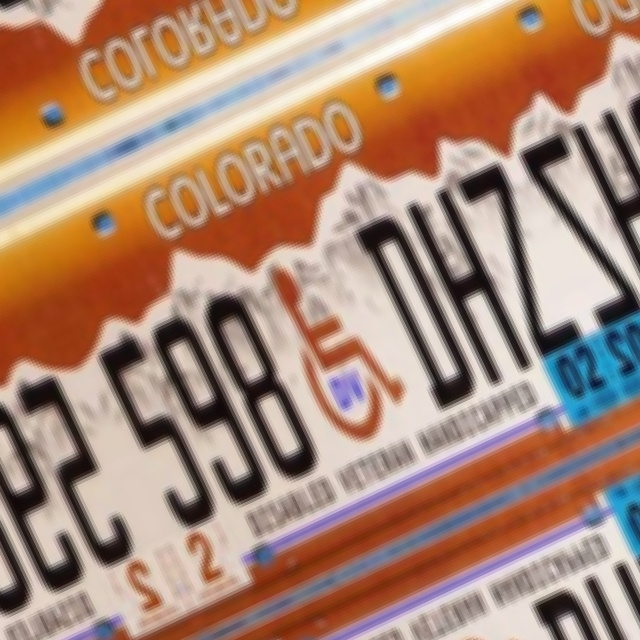ISA: (257, 240, 416, 451), (436, 620, 596, 640)
